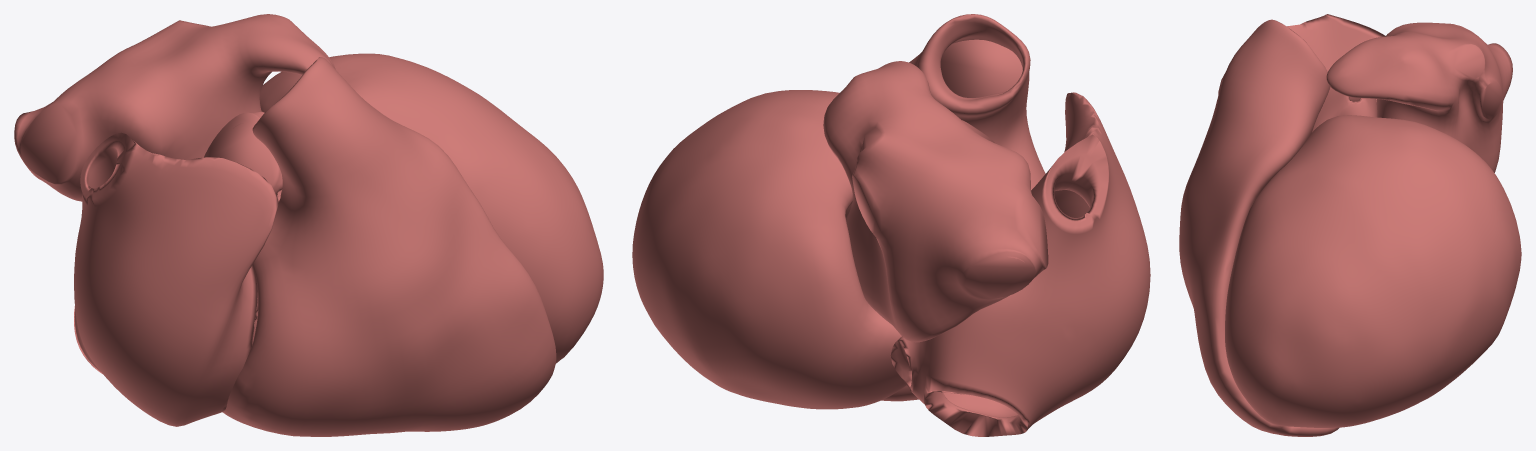
3 views of the same model, side by side, from view 1: azimuth 30°, elevation 25°; view 2: azimuth 150°, elevation 25°; view 3: azimuth 270°, elevation 25° (orthographic). The views are drawn at different scales.
Parts seen in each view (by area): view 1: VH_F_right_ventricle, VH_F_right_cardiac_atrium, VH_F_left_ventricle, VH_F_left_cardiac_atrium, VH_F_aortic_valve; view 2: VH_F_left_ventricle, VH_F_left_cardiac_atrium, VH_F_right_cardiac_atrium, VH_F_right_ventricle, VH_F_pulmonary_valve; view 3: VH_F_left_ventricle, VH_F_right_ventricle, VH_F_left_cardiac_atrium, VH_F_right_cardiac_atrium, VH_F_aortic_valve.
Boxes of the visible parts, x1,y1,x2,y2 form: VH_F_right_ventricle: (222,57,556,436); VH_F_right_cardiac_atrium: (74,132,278,426); VH_F_left_ventricle: (259,53,603,363); VH_F_left_cardiac_atrium: (14,14,335,201); VH_F_aortic_valve: (204,111,282,202); VH_F_left_ventricle: (632,90,906,409); VH_F_left_cardiac_atrium: (823,61,1048,342); VH_F_right_cardiac_atrium: (890,92,1150,436); VH_F_right_ventricle: (881,14,1045,401); VH_F_pulmonary_valve: (940,39,1022,97); VH_F_left_ventricle: (1225,115,1521,427); VH_F_right_ventricle: (1179,19,1339,436); VH_F_left_cardiac_atrium: (1326,22,1512,172); VH_F_right_cardiac_atrium: (1218,14,1385,101); VH_F_aortic_valve: (1312,87,1377,132).
Size of the model in its own units: 0.1425 by 0.11 by 0.1015.
